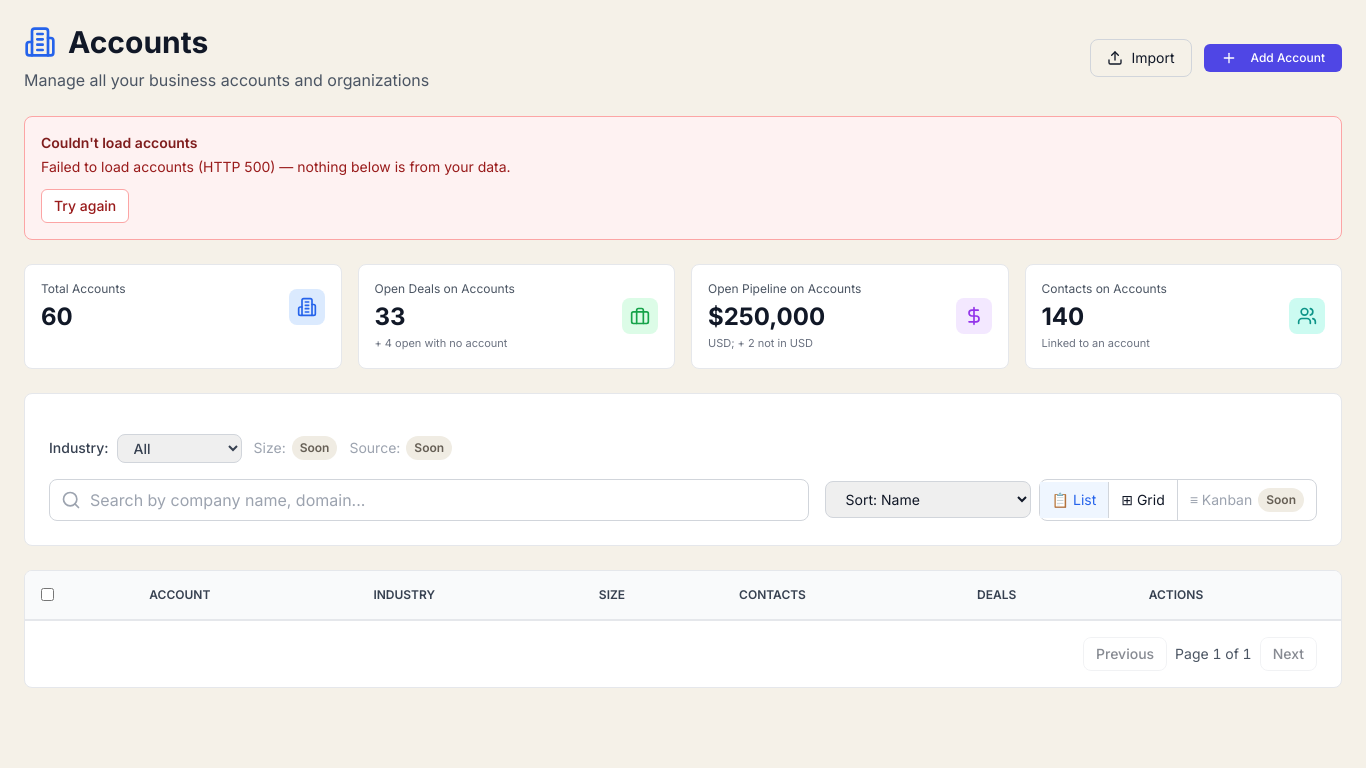
Accounts — one server page at a time › a failed load says so and offers a retry — never figures shown as current
Check: the message shows "Failed to load accounts (HTTP 500)", box [41, 158, 275, 175]
Click the button "Try again": (85, 206) [41, 189, 129, 223]
(page scrolled)
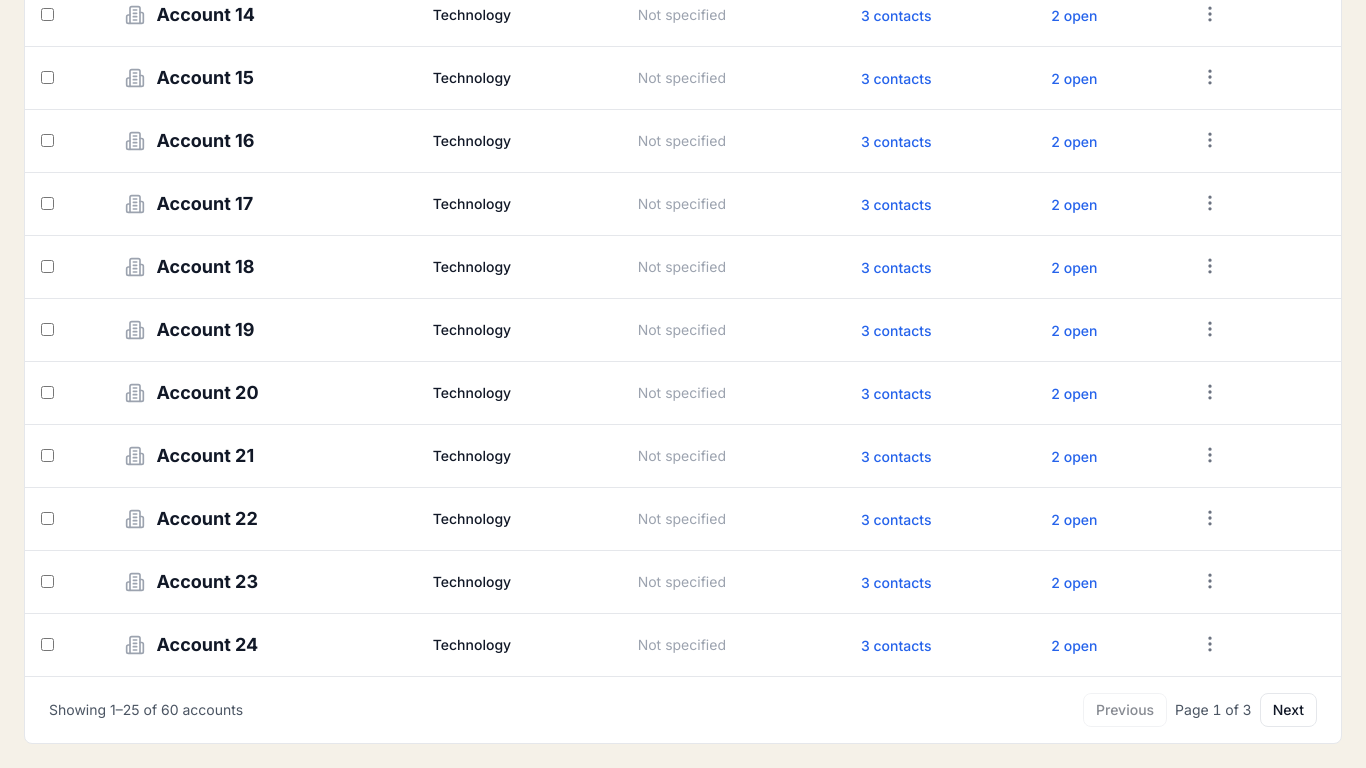
Check: the text "Showing 1–25 of 60 accounts" is shown, box [49, 700, 243, 720]
